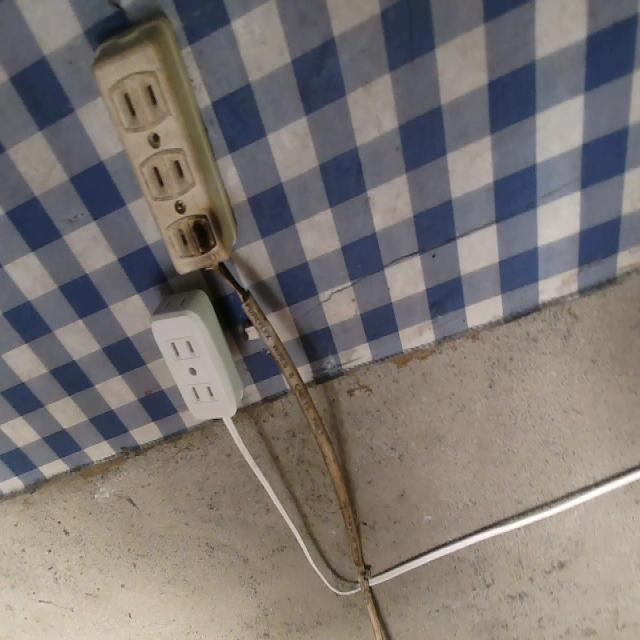-: (188, 208, 220, 259)
